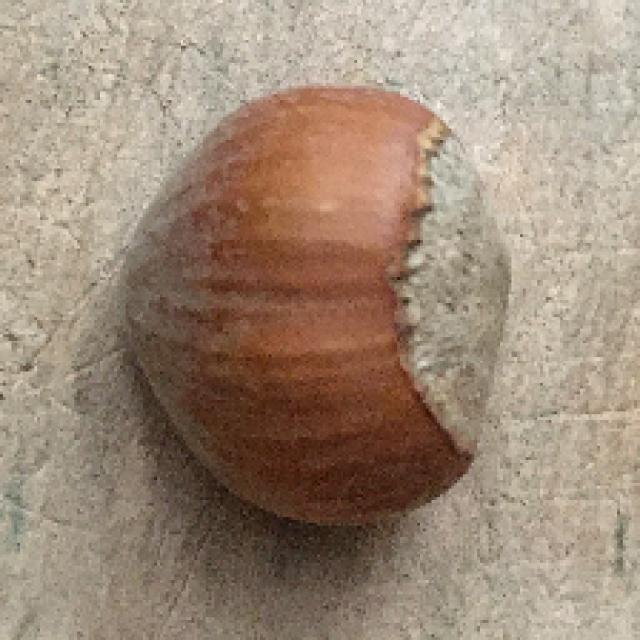qualityHazelnut: (119, 87, 507, 523)
